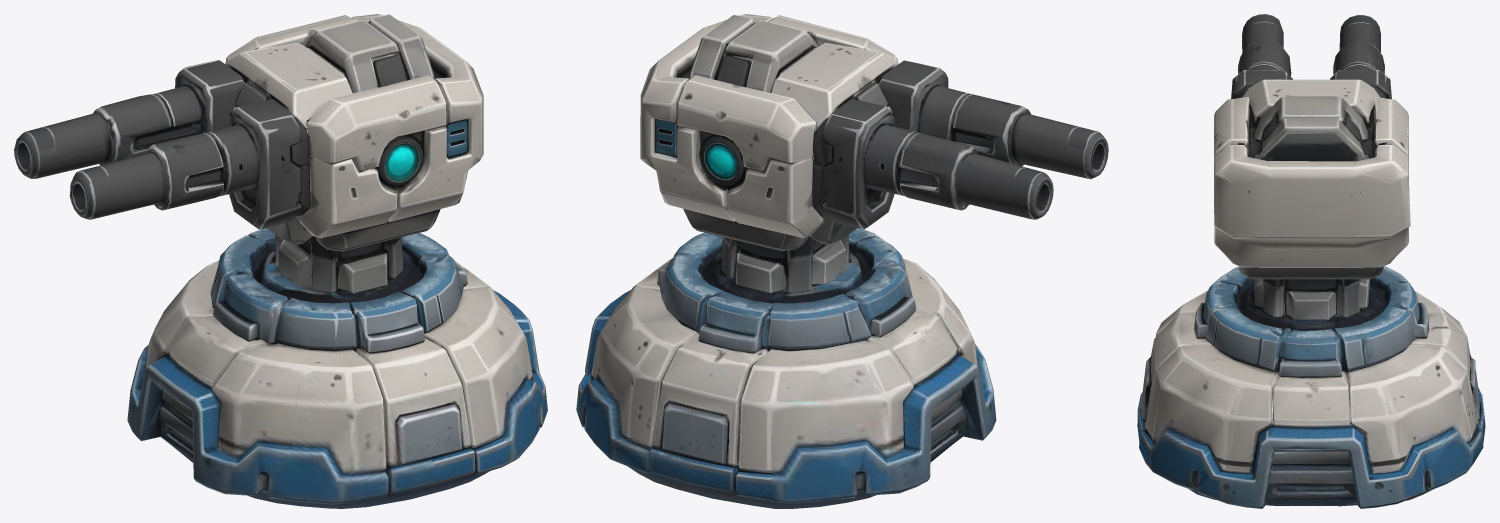
File: turret.glb
The picture shows the model from 3 angles, left to right: view 1: azimuth 30°, elevation 25°; view 2: azimuth 150°, elevation 25°; view 3: azimuth 270°, elevation 25°; orthographic projection. The views are drawn at different scales.
Visible parts, largest first — view 1: body, barrel; view 2: body, barrel; view 3: body, barrel.
Part boxes in pixels (x1,y1,x2,y2): body: (102,14,547,508); barrel: (14,106,171,219); body: (576,14,1021,508); barrel: (952,106,1108,219); body: (1137,41,1485,508); barrel: (1242,14,1380,52).
Bounding box in the file's own units: 0.9575 × 0.7842 × 0.7036.
1 material, 1 textured.
